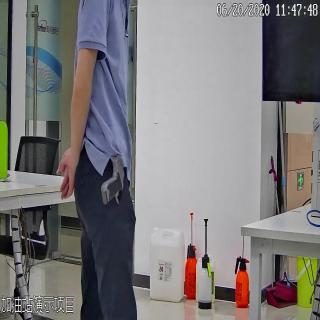gun: (100, 154, 134, 224)
